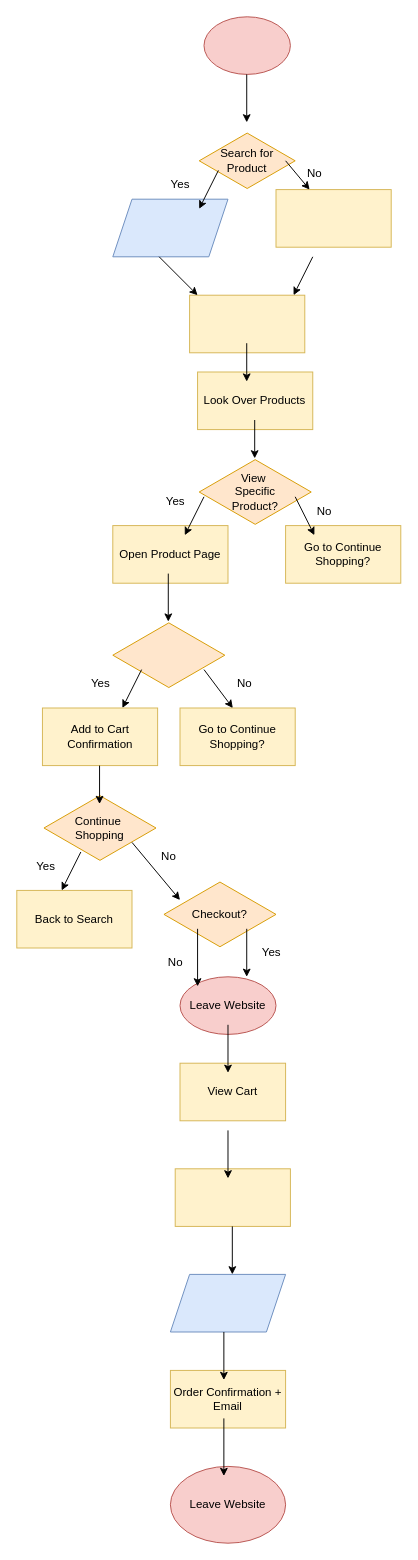
Some shapes in this 418 by 1560 pixel diagram are drawn without their labels. Here are the shapes that lost their labels. From the top down, the box of each, then its label:
(203, 16, 290, 74): Enter Website
(112, 198, 228, 257): Provide Search Input
(275, 189, 391, 247): Explore Products on Home Page
(189, 294, 305, 353): View Products
(112, 621, 225, 689): Add to Cart
(174, 1168, 290, 1226): View Payment
(169, 1273, 286, 1332): Provide Payment Info
